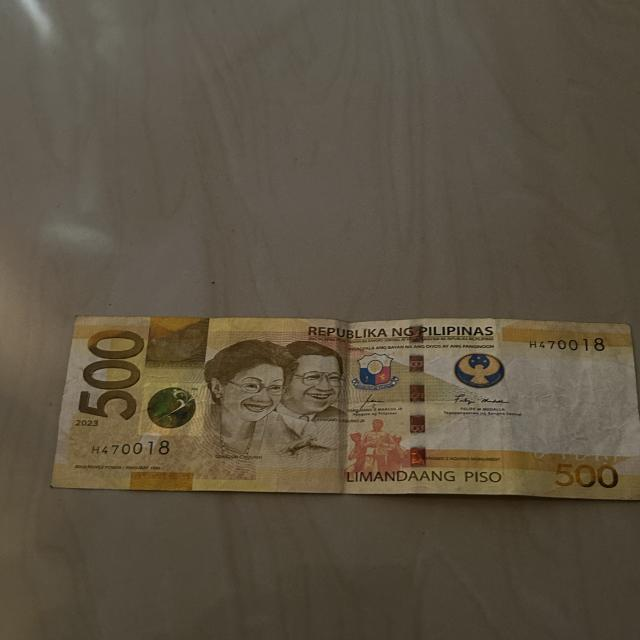concealed_value: (148, 320, 210, 363)
optically_variable_device: (145, 387, 197, 430)
